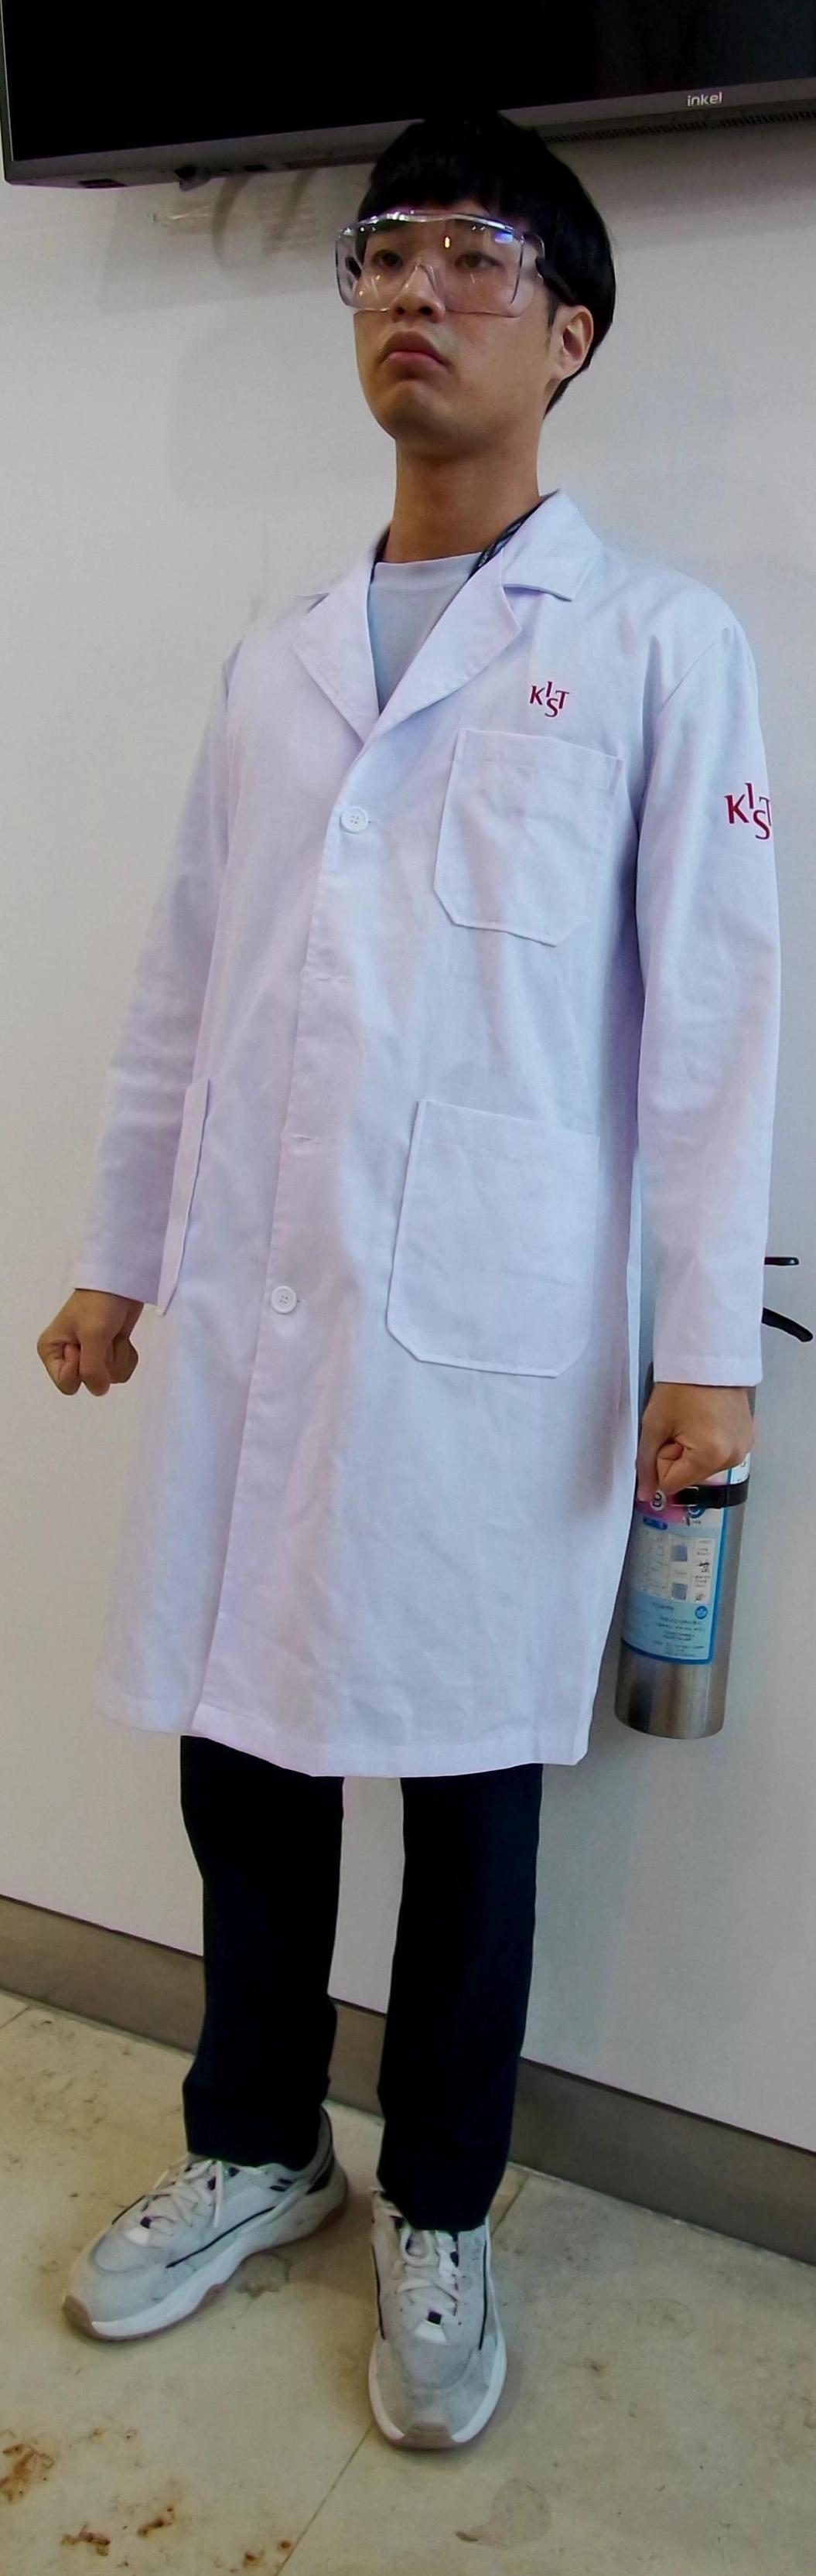lab_coat: (48, 527, 635, 1782)
